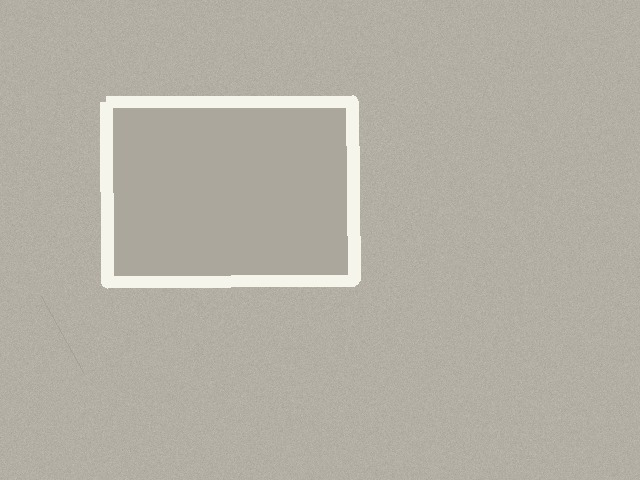parking_area: (106, 101, 354, 282)
